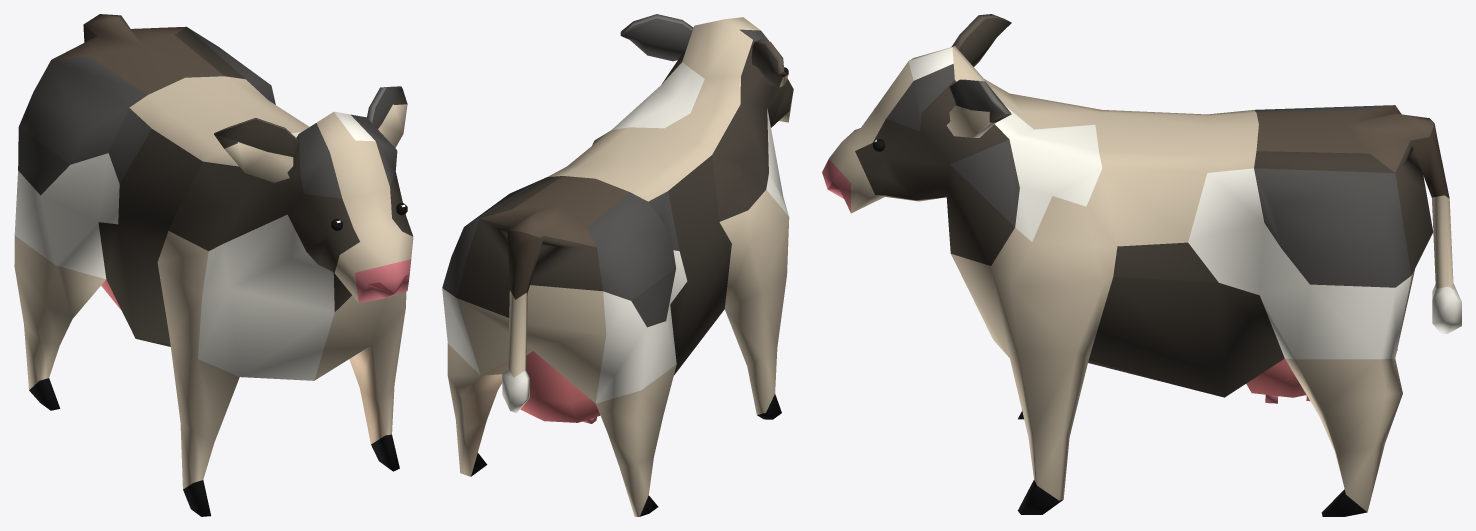
The model's file is kuh.fbx.
3 views of the same model, side by side, from view 1: azimuth 30°, elevation 25°; view 2: azimuth 150°, elevation 25°; view 3: azimuth 270°, elevation 25° (orthographic). The views are drawn at different scales.
Visible parts, largest first — view 1: CowBlW.001; view 2: CowBlW.001; view 3: CowBlW.001.
Boxes of the visible parts, left/top/right/bottom form: CowBlW.001: left=14, top=14, right=413, bottom=516; CowBlW.001: left=442, top=14, right=793, bottom=516; CowBlW.001: left=822, top=14, right=1461, bottom=516.
Size of the model in its own units: 92.02 by 159 by 220.
